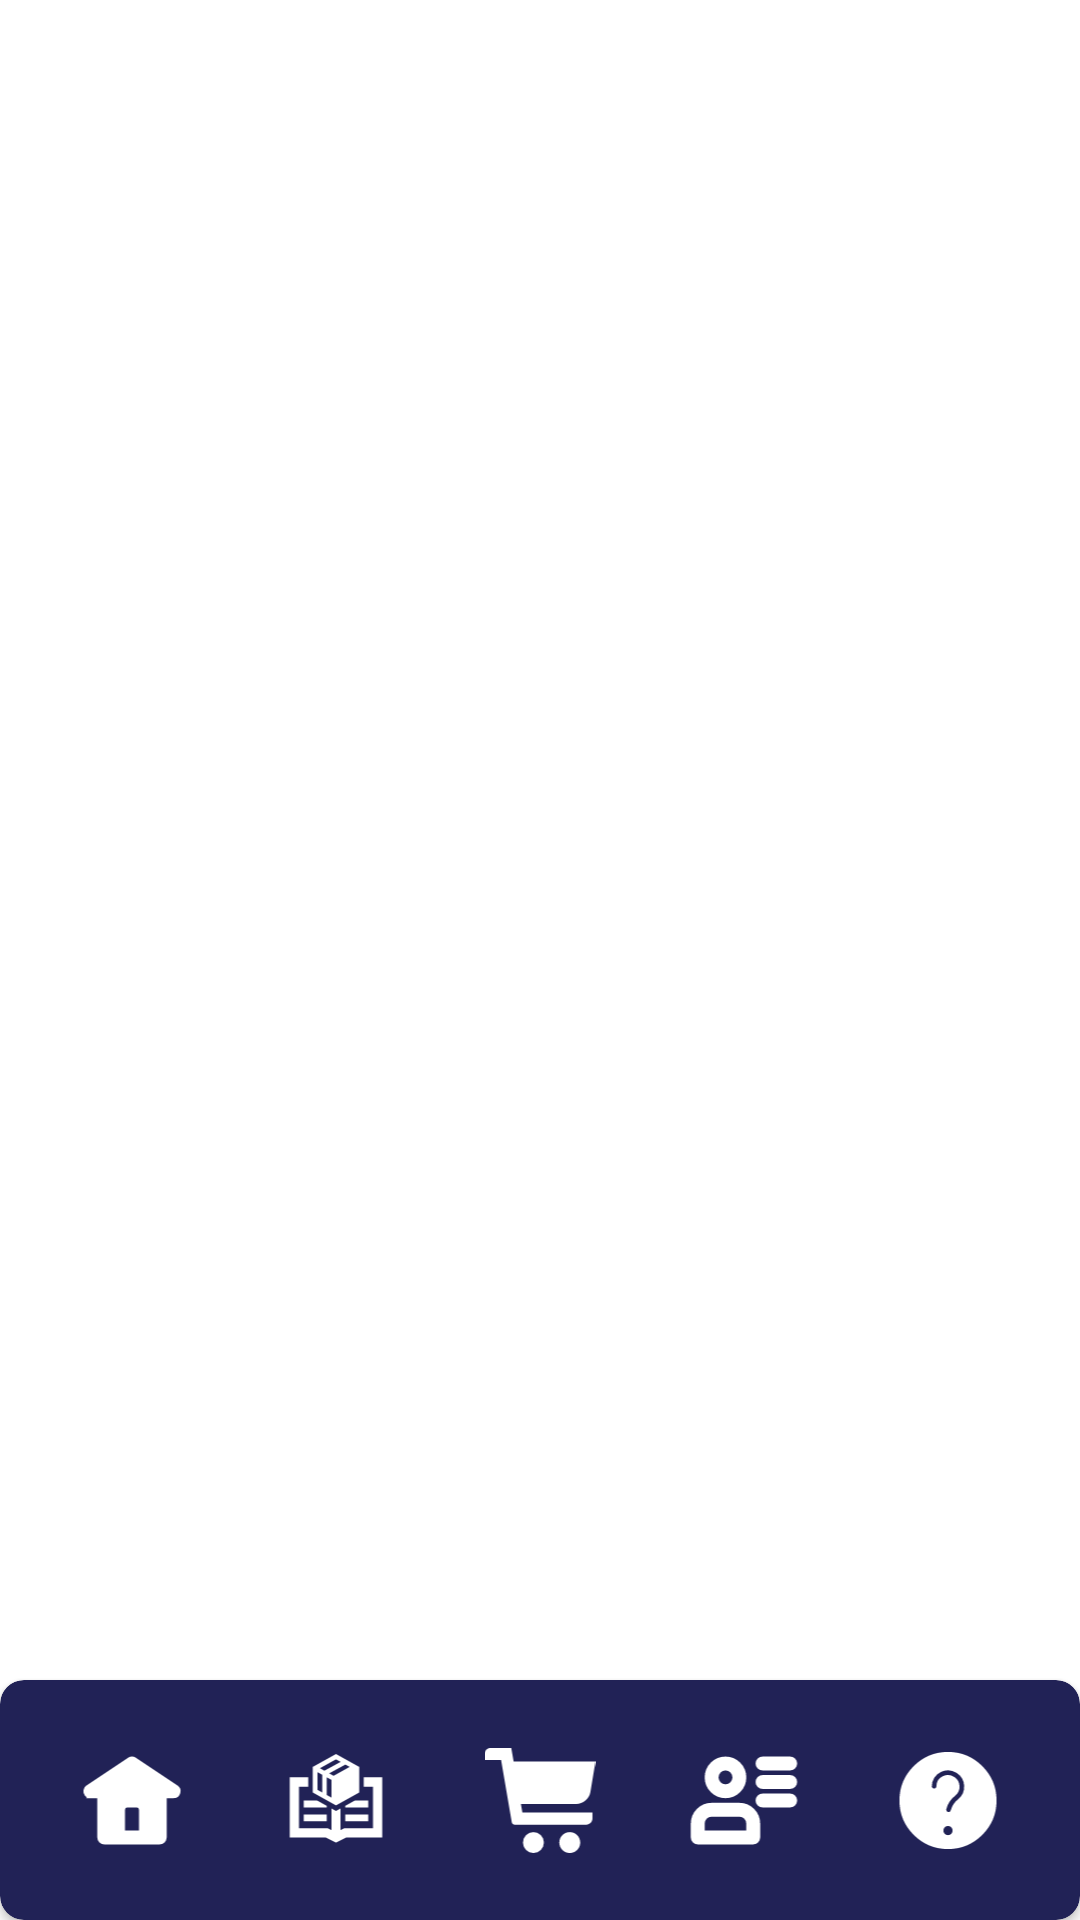

Icon bounding boxes for this 1080*1920 phone screenshot, format (x1, y1, x2, y2):
carrito: (485, 1748, 596, 1853)
faq: (899, 1752, 997, 1849)
inicio: (83, 1756, 181, 1845)
producto: (289, 1754, 383, 1843)
user: (690, 1756, 798, 1845)
